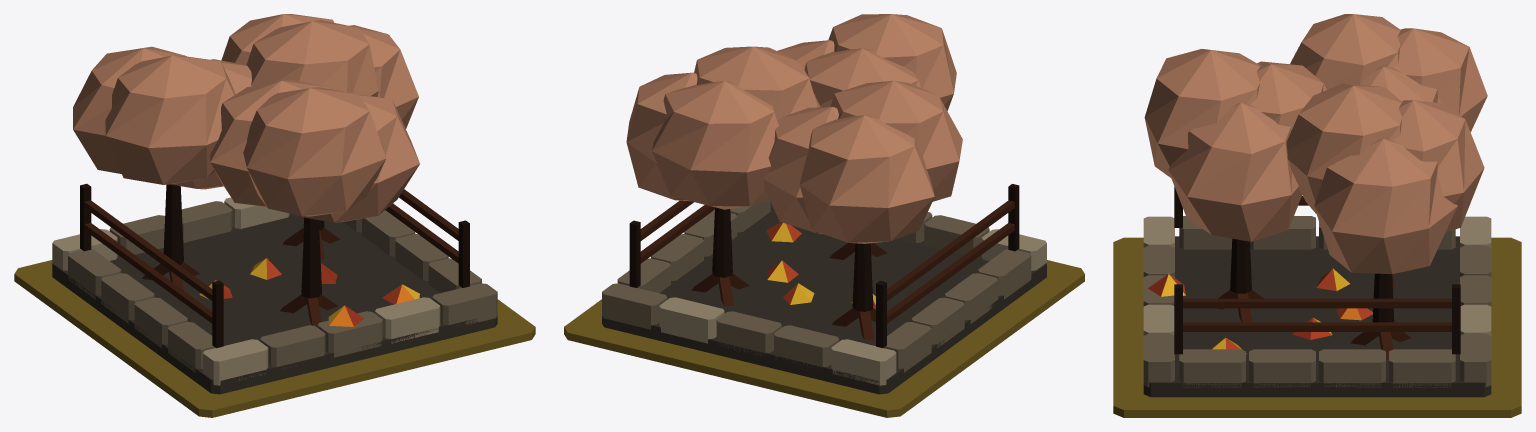
The model's file is frostgrove_t3.glb.
The picture shows the model from 3 angles, left to right: view 1: azimuth 30°, elevation 25°; view 2: azimuth 150°, elevation 25°; view 3: azimuth 270°, elevation 25°; orthographic projection. The views are drawn at different scales.
Visible parts, largest first — view 1: MMR | frostgrove | T03 Architecture.001, MMR | frostgrove | Tier 03 Ground.001, MMR | frostgrove | T03 Autumn Dressing.001; view 2: MMR | frostgrove | T03 Architecture.001, MMR | frostgrove | Tier 03 Ground.001, MMR | frostgrove | T03 Autumn Dressing.001; view 3: MMR | frostgrove | T03 Architecture.001, MMR | frostgrove | Tier 03 Ground.001, MMR | frostgrove | T03 Autumn Dressing.001.
Boxes of the visible parts, x1=… form: MMR | frostgrove | T03 Architecture.001: x1=52, y1=14, x2=497, y2=394; MMR | frostgrove | Tier 03 Ground.001: x1=14, y1=260, x2=535, y2=417; MMR | frostgrove | T03 Autumn Dressing.001: x1=199, y1=258, x2=419, y2=326; MMR | frostgrove | T03 Architecture.001: x1=602, y1=14, x2=1046, y2=394; MMR | frostgrove | Tier 03 Ground.001: x1=564, y1=260, x2=1084, y2=417; MMR | frostgrove | T03 Autumn Dressing.001: x1=766, y1=222, x2=875, y2=309; MMR | frostgrove | T03 Architecture.001: x1=1143, y1=14, x2=1491, y2=397; MMR | frostgrove | Tier 03 Ground.001: x1=1113, y1=237, x2=1521, y2=417; MMR | frostgrove | T03 Autumn Dressing.001: x1=1148, y1=268, x2=1372, y2=354.
Bounding box in the file's own units: 2.35 × 1.74 × 2.35.
1 material, 1 textured.
